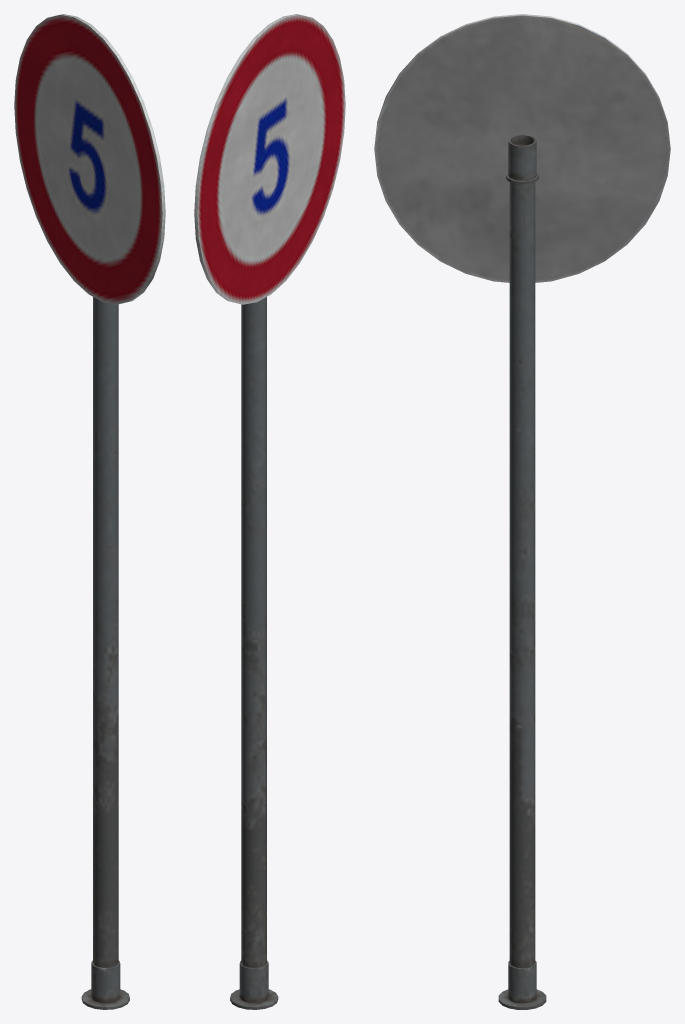
The model's file is SM_Sign_3_SpeedLimit.fbx.
3 renders of one model, left to right at view 1: azimuth 30°, elevation 25°; view 2: azimuth 150°, elevation 25°; view 3: azimuth 270°, elevation 25°, orthographic.
Visible parts, largest first — view 1: SM_Sign_3_SpeedLimit_LOD0; view 2: SM_Sign_3_SpeedLimit_LOD0; view 3: SM_Sign_3_SpeedLimit_LOD0.
Part boxes in pixels (bbox=[...]): SM_Sign_3_SpeedLimit_LOD0: bbox=[14, 14, 165, 1009]; SM_Sign_3_SpeedLimit_LOD0: bbox=[194, 14, 345, 1009]; SM_Sign_3_SpeedLimit_LOD0: bbox=[374, 14, 670, 1009].
Size of the model in its own units: 11.52 by 72 by 262.
Materials: 2 (2 with a texture image).
